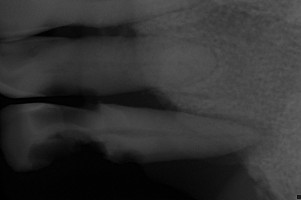Dental Caries: (183, 109, 279, 163)
